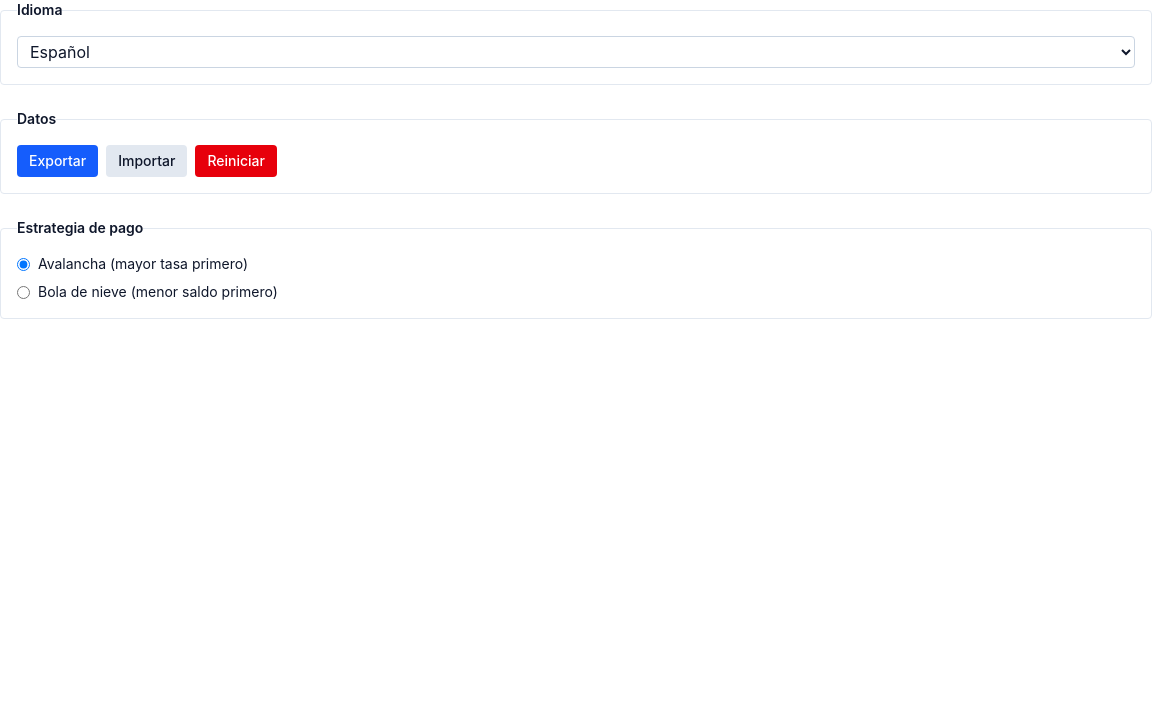
it: SettingsPanel — Reset (AC-15.4 TC-C-031) › AC-15.4 TC-C-031: clicking "Reiniciar" opens confirm dialog
Click the button "Reiniciar" at x=236, y=161, box [195,145,277,177]
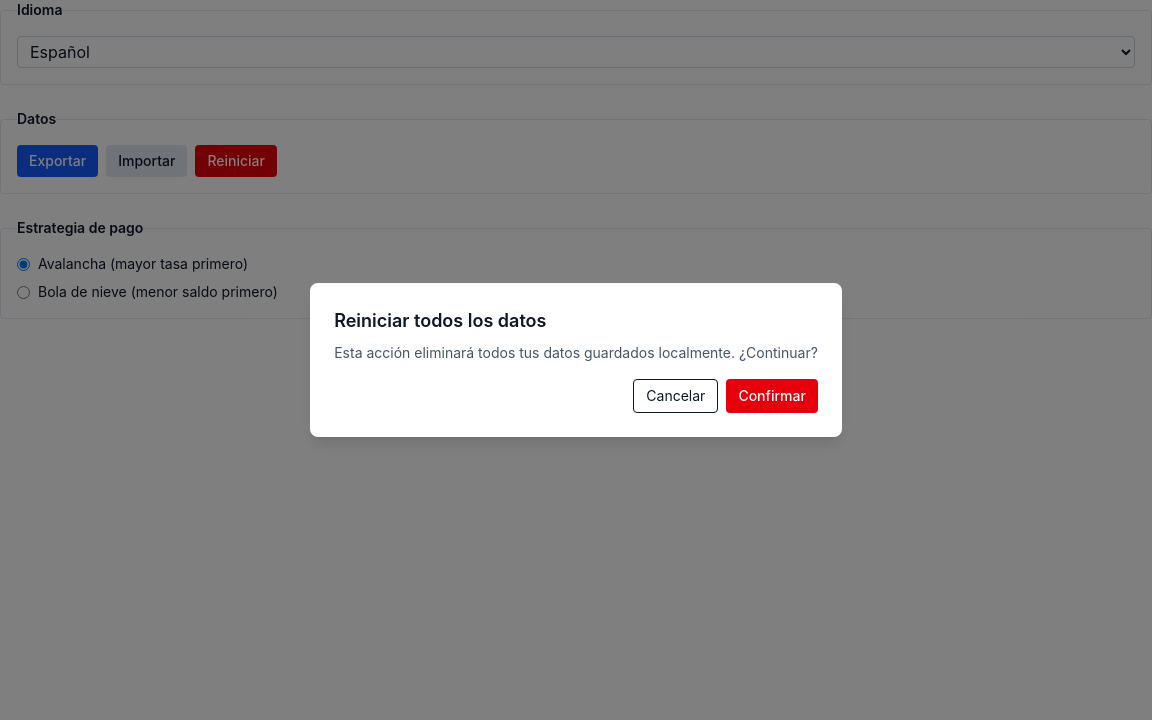
Expected: the dialog is shown
